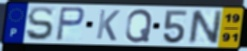5: (161, 9, 189, 45)
K: (95, 8, 122, 42)
N: (187, 9, 224, 46)
P: (54, 6, 87, 43)
Q: (124, 8, 154, 44)
S: (25, 5, 55, 42)
